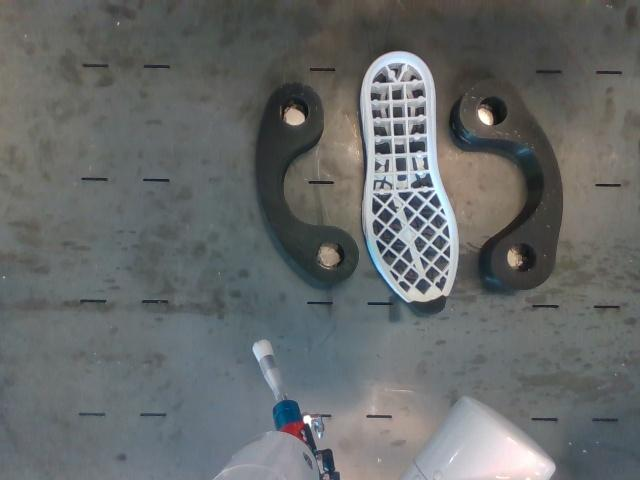shoes: (367, 52, 458, 315)
